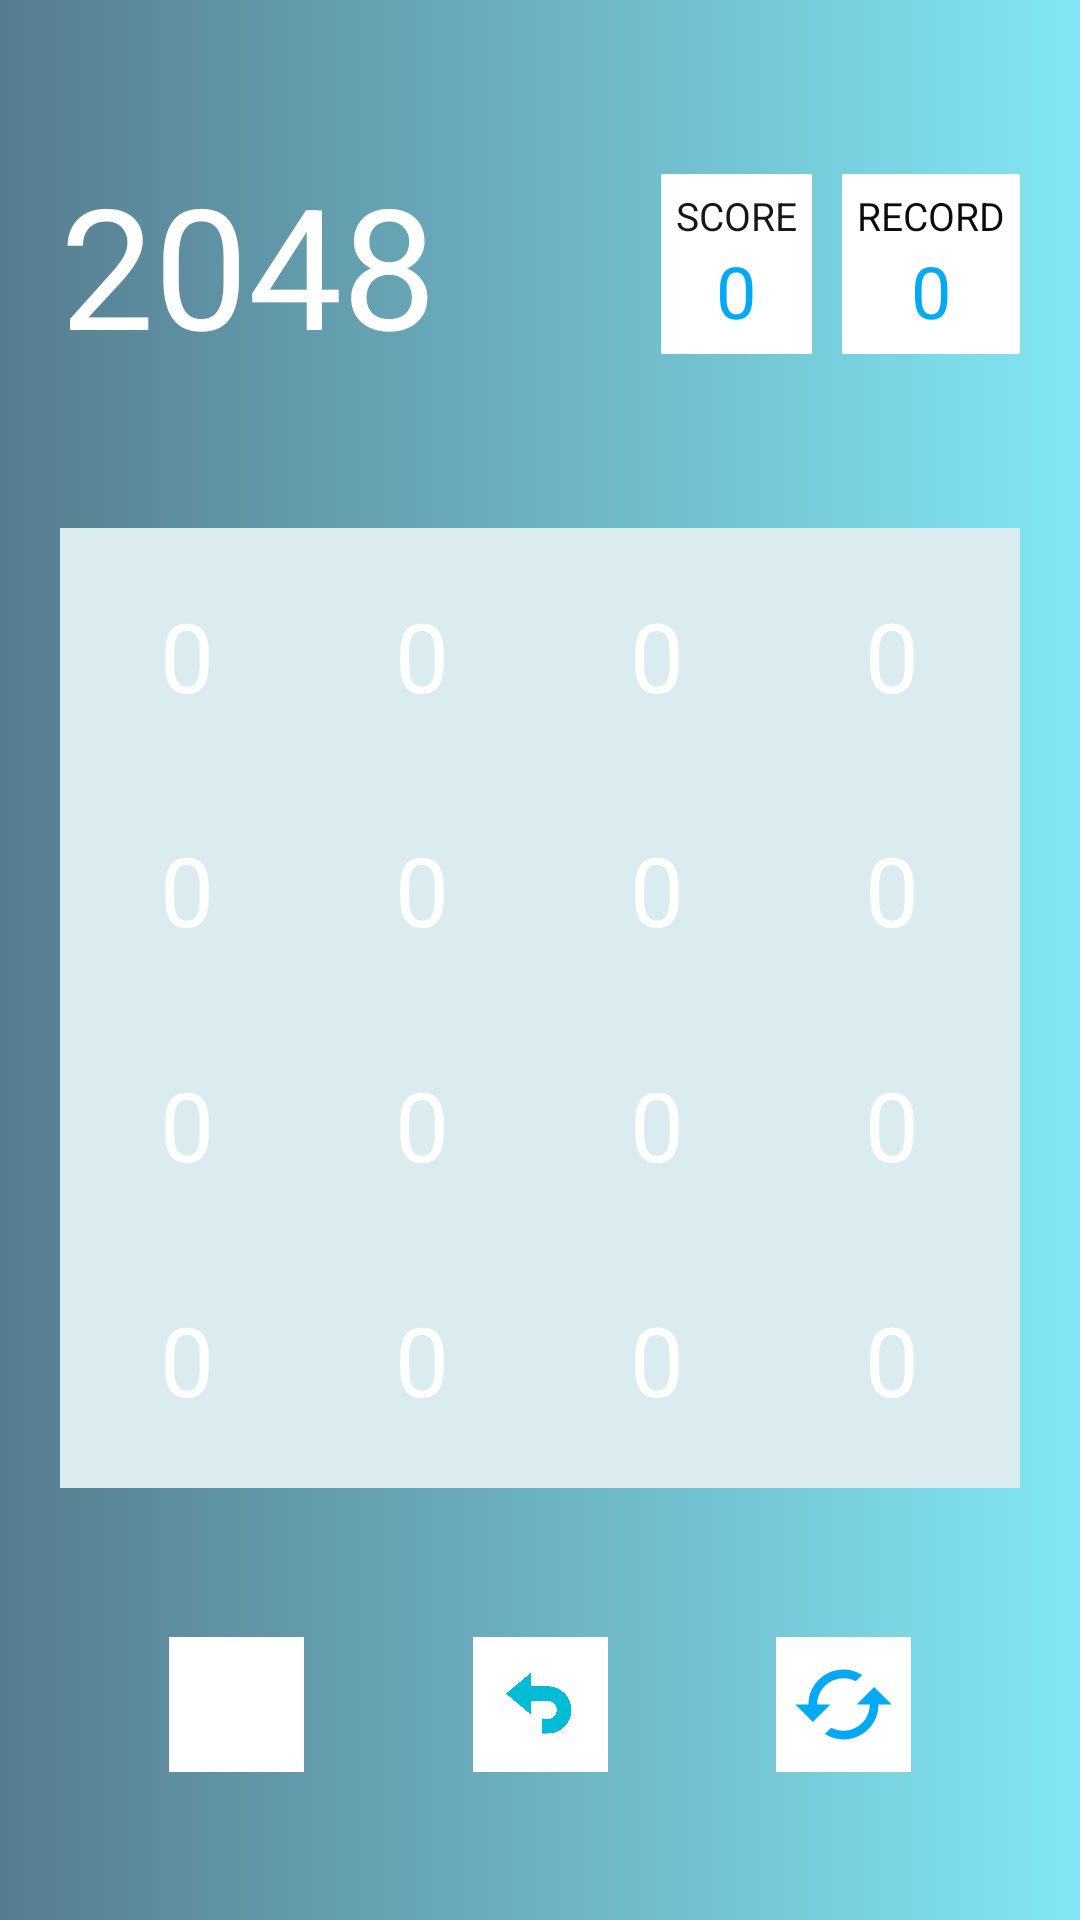

Named icons in this screenshot (1080 × 1920) and their centers, point (x, y):
restart: point (843, 1704)
undom: point (540, 1704)
